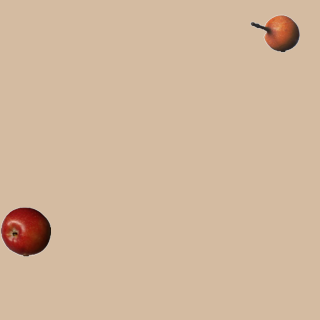Apple Braeburn: (0, 206, 50, 256)
Granadilla: (249, 8, 299, 58)
